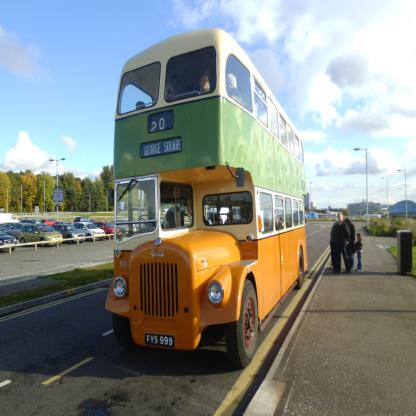Bus: (102, 22, 309, 368)
